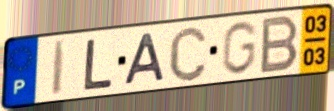A: (123, 30, 168, 88)
B: (257, 12, 301, 76)
C: (167, 24, 209, 84)
G: (219, 19, 260, 77)
I: (50, 38, 69, 98)
L: (81, 38, 115, 93)
